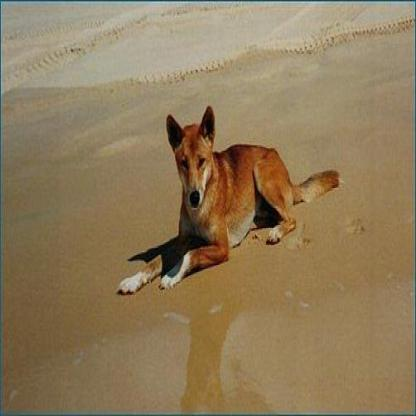dingo: (115, 101, 343, 294)
